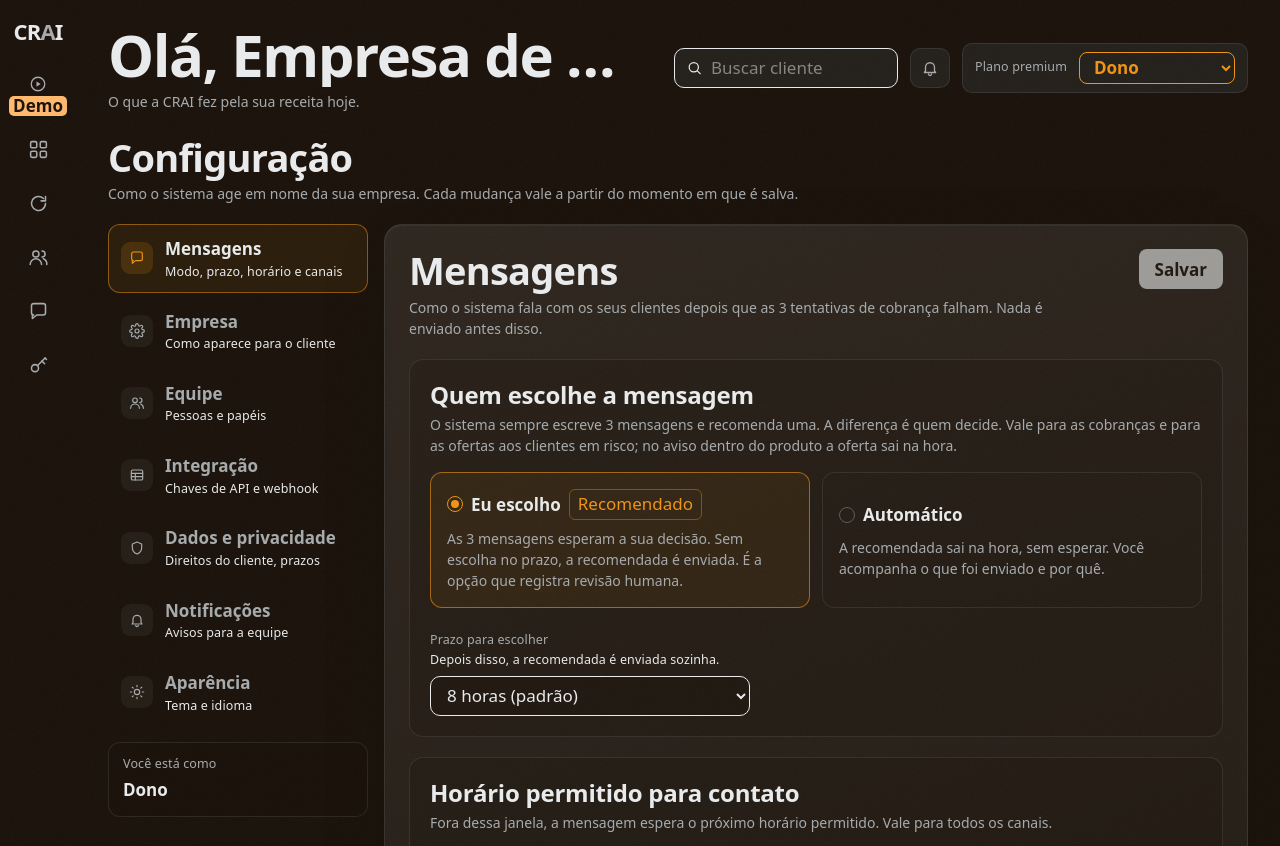
Test: o selo do papel › no login de desenvolvimento é um controle só, em português, e trocar o papel muda o que a pessoa pode fazer
Expected: the heading "Quem escolhe a mensagem" is shown, [430,378,754,411]
Expected: the text "Papel" is not shown
Select "Membro" in the dropdown named "Papel" at (1157, 68), box [1079,52,1235,84]
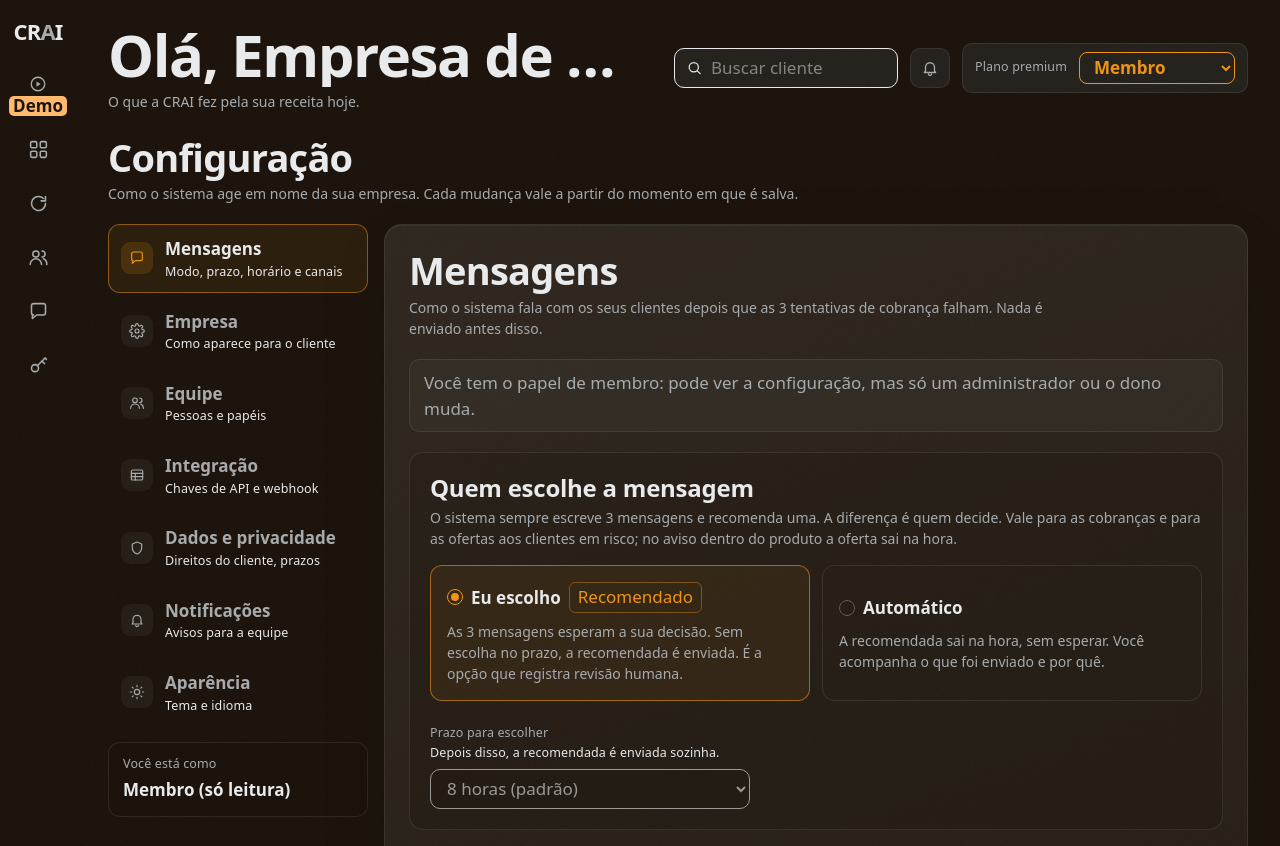
Expected: the text "Membro (só leitura)" is shown, [123,778,290,801]
